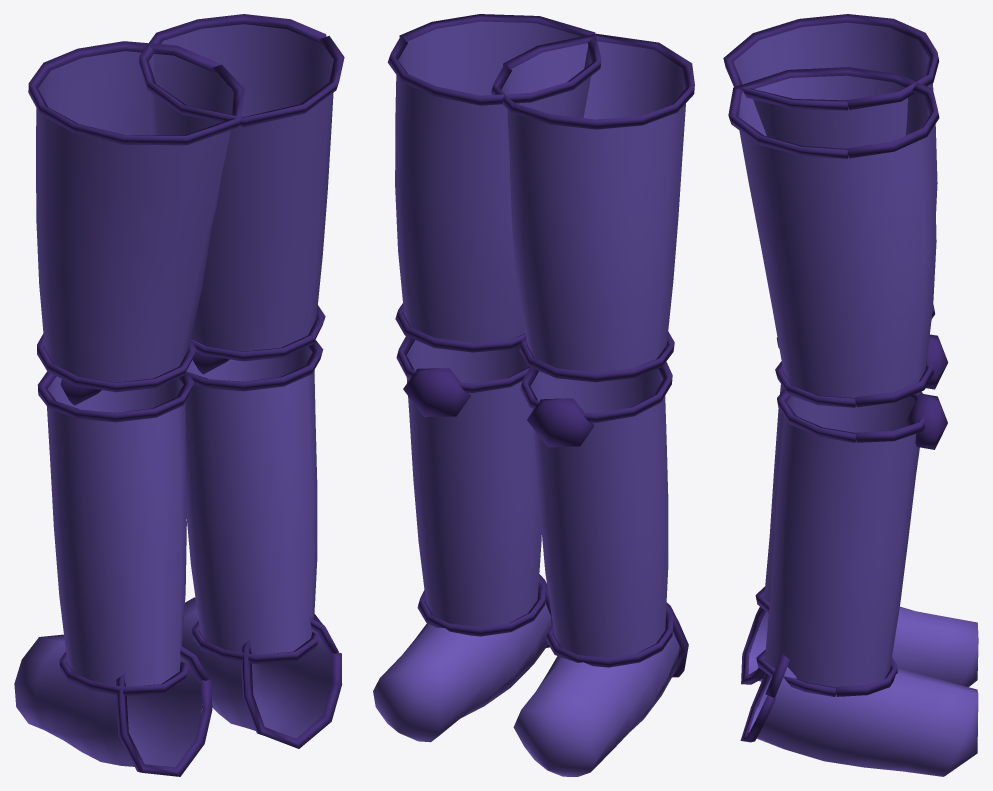
The model's file is demonite_greaves.glb.
The picture shows the model from 3 angles, left to right: view 1: azimuth 30°, elevation 25°; view 2: azimuth 150°, elevation 25°; view 3: azimuth 270°, elevation 25°; orthographic projection. The views are drawn at different scales.
Parts seen in each view (by area): view 1: demonite_greaves_cuisse.L; view 2: demonite_greaves_cuisse.L; view 3: demonite_greaves_cuisse.L.
Part boxes in pixels (x1,y1,x2,y2): demonite_greaves_cuisse.L: (14, 14, 344, 776); demonite_greaves_cuisse.L: (373, 14, 694, 776); demonite_greaves_cuisse.L: (723, 14, 978, 776).
Bounding box in the file's own units: 0.4249 × 0.9563 × 0.3366.
